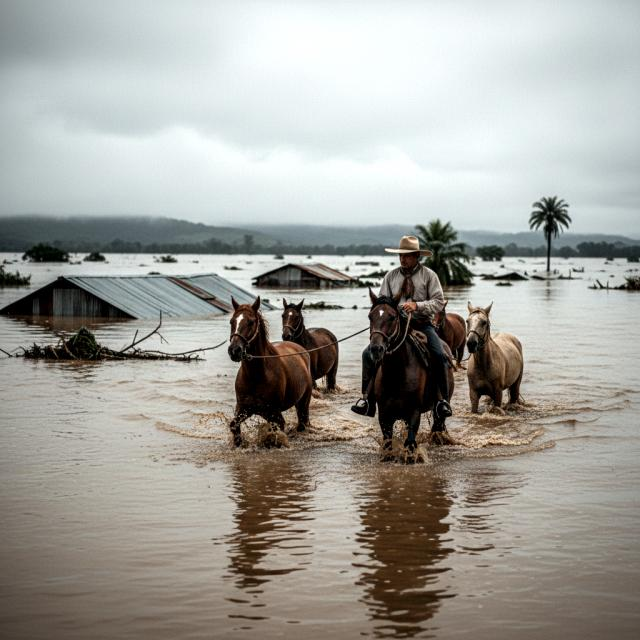civilian: (349, 230, 455, 428)
horse: (364, 289, 456, 460), (225, 293, 319, 445), (464, 298, 534, 416), (278, 292, 344, 402), (431, 293, 474, 379)
